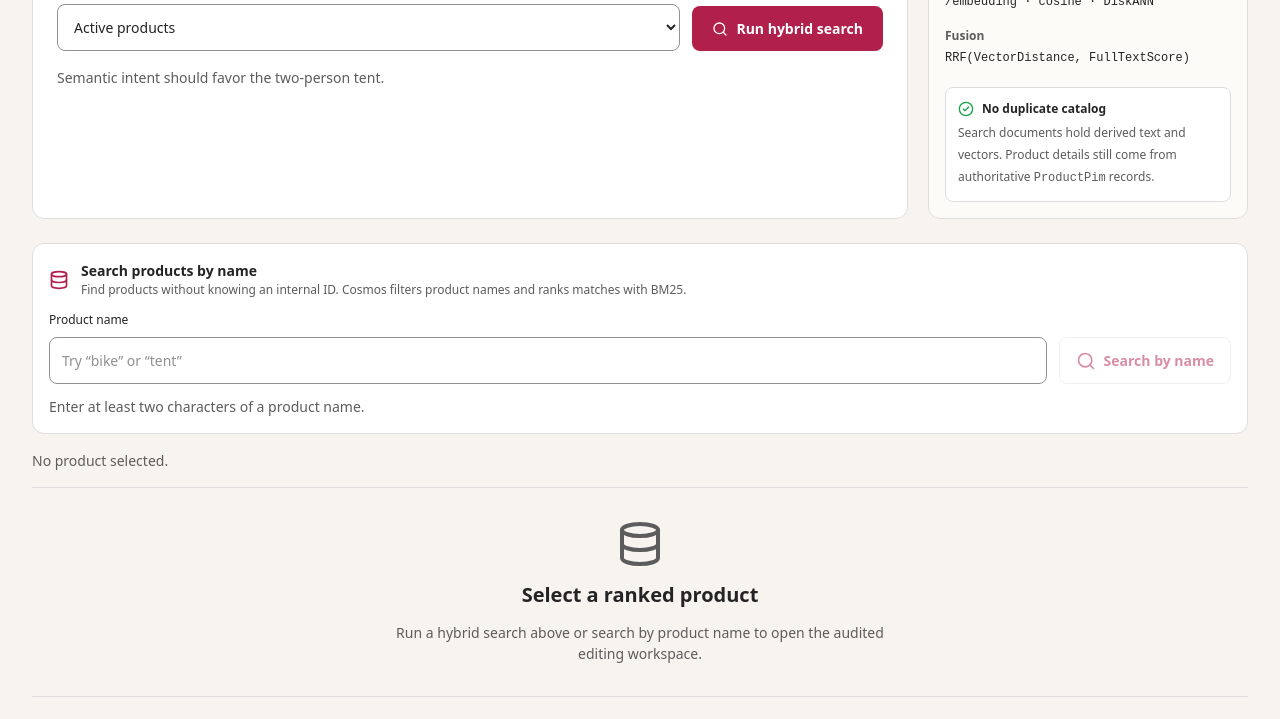
Test: App › saves changed fields with a reason and optimistic version then reloads
(page scrolled)
Type "Test product" into the field labelled "Product name". click: (548, 360)
box: [49,337,1047,384]
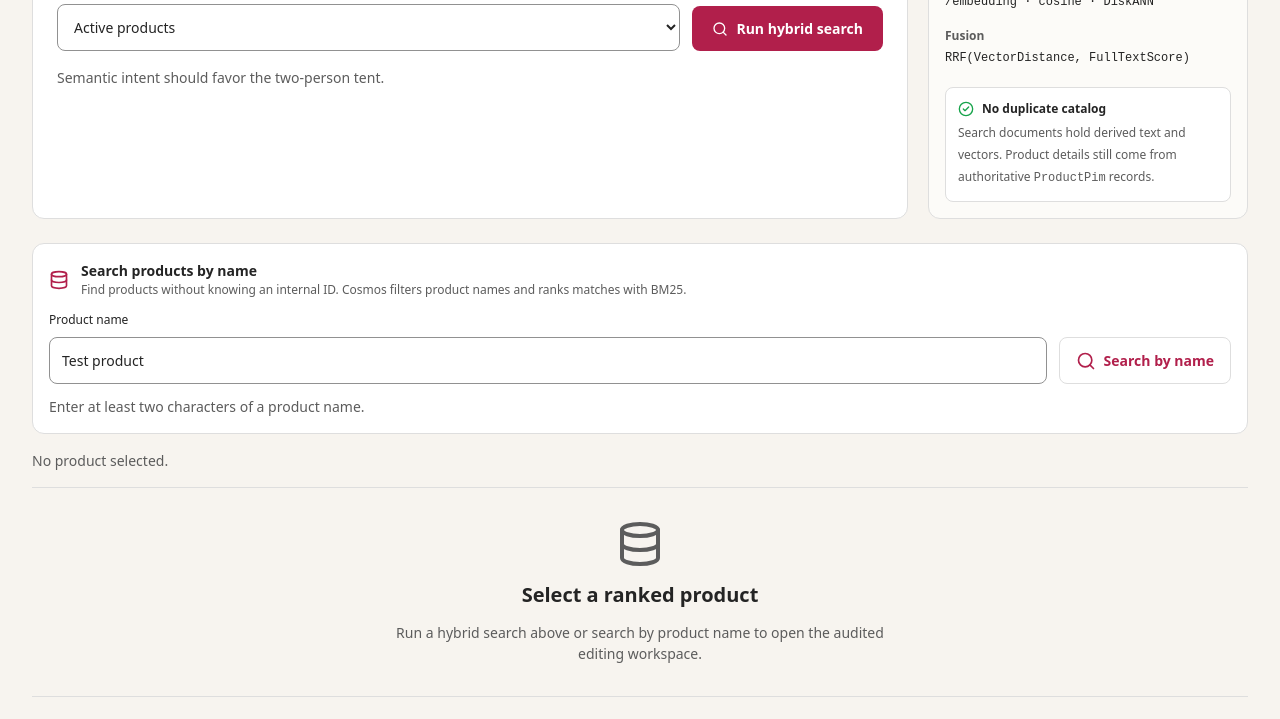
Submit the form "Product name", box [49,311,1231,384]
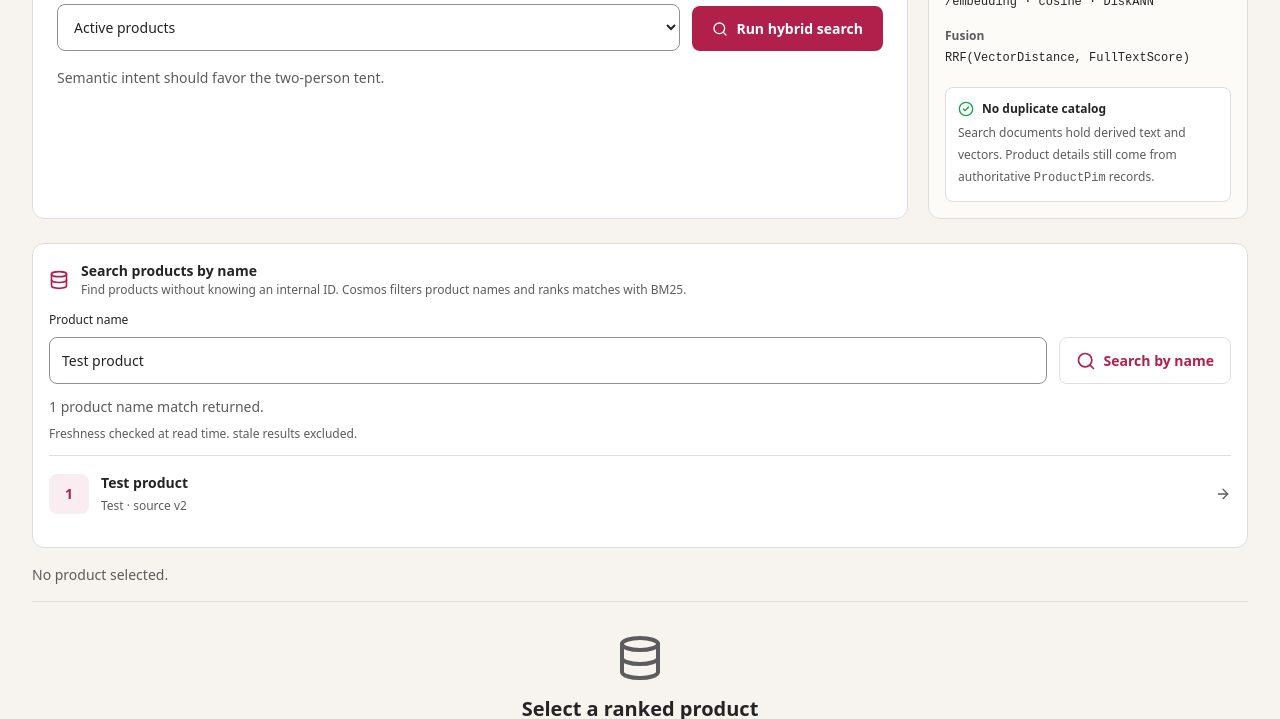
Click the button "1 Test product Test · source v2". click: (69, 494)
box: [49,456,1231,531]
(page scrolled)
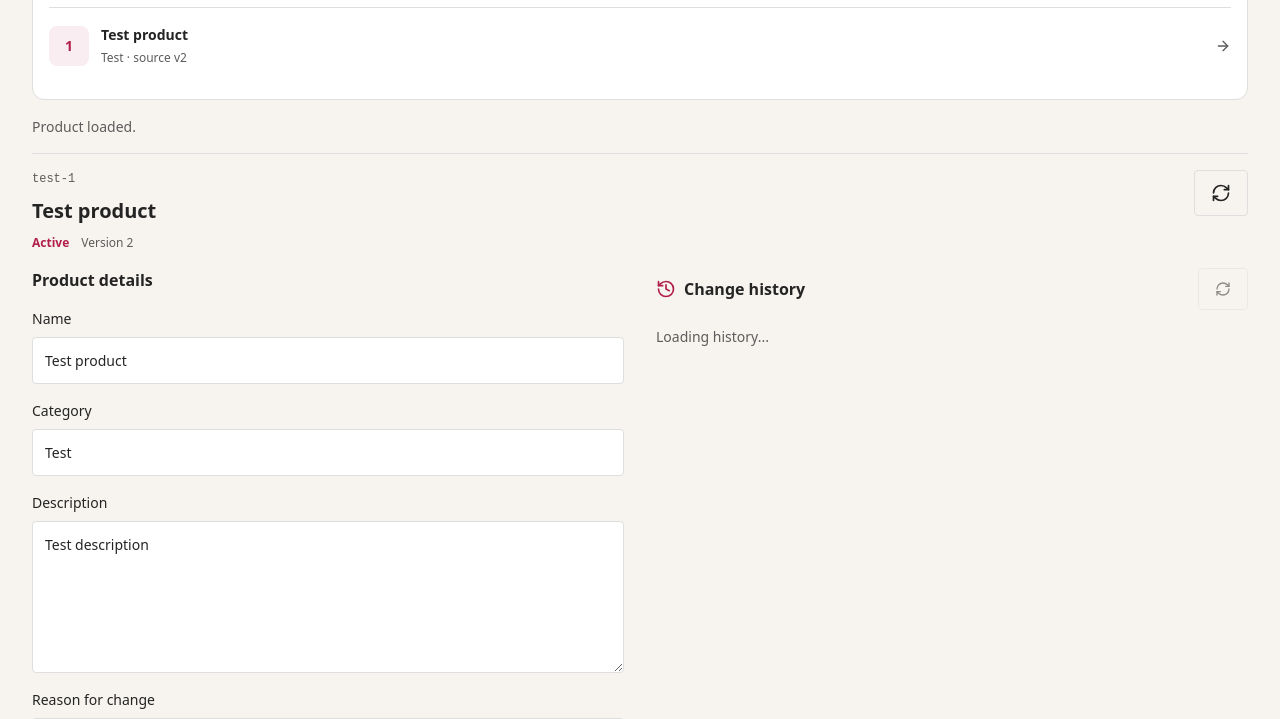
Expected: the heading "Test product" is shown, [32,196,156,226]
Replace the text in the field labelled "Name" with "New name". click: (328, 360)
box: [32,337,624,384]
(page scrolled)
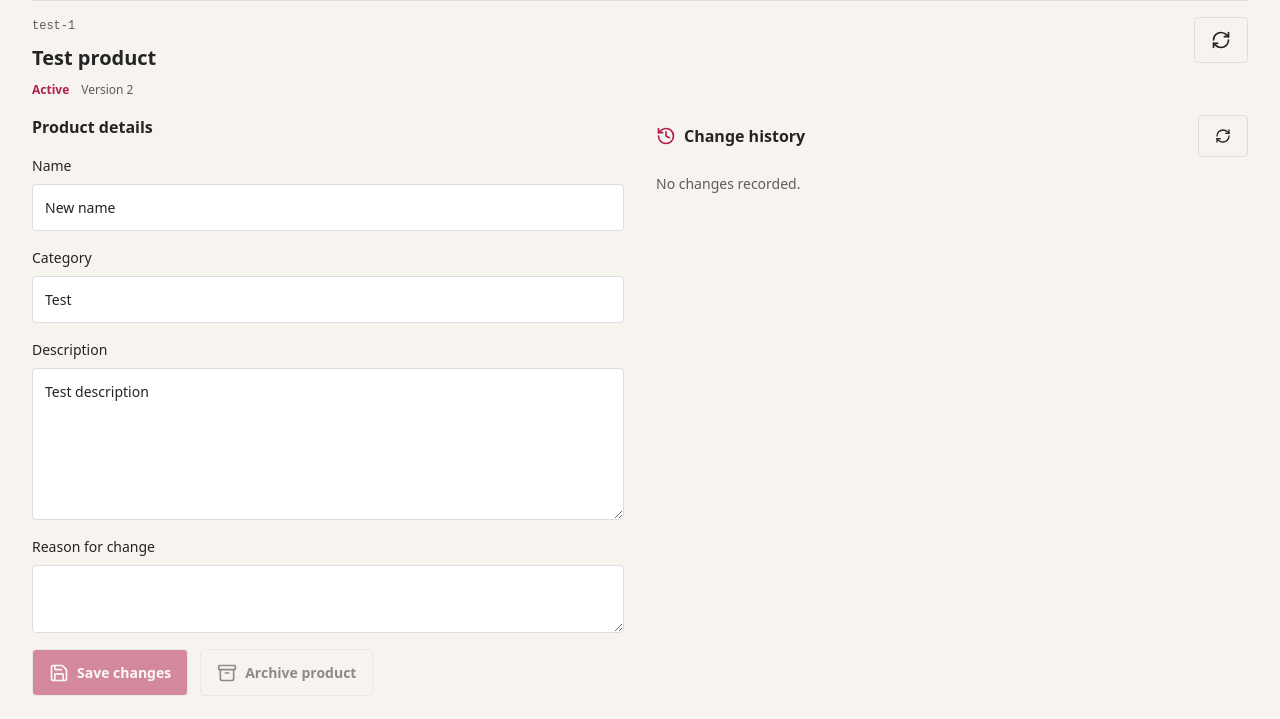
Expected: the button "Save changes" is disabled, [32,649,188,696]
Type "Correct product name" into the text box labelled "Reason for change". click: (328, 599)
box: [32,565,624,633]
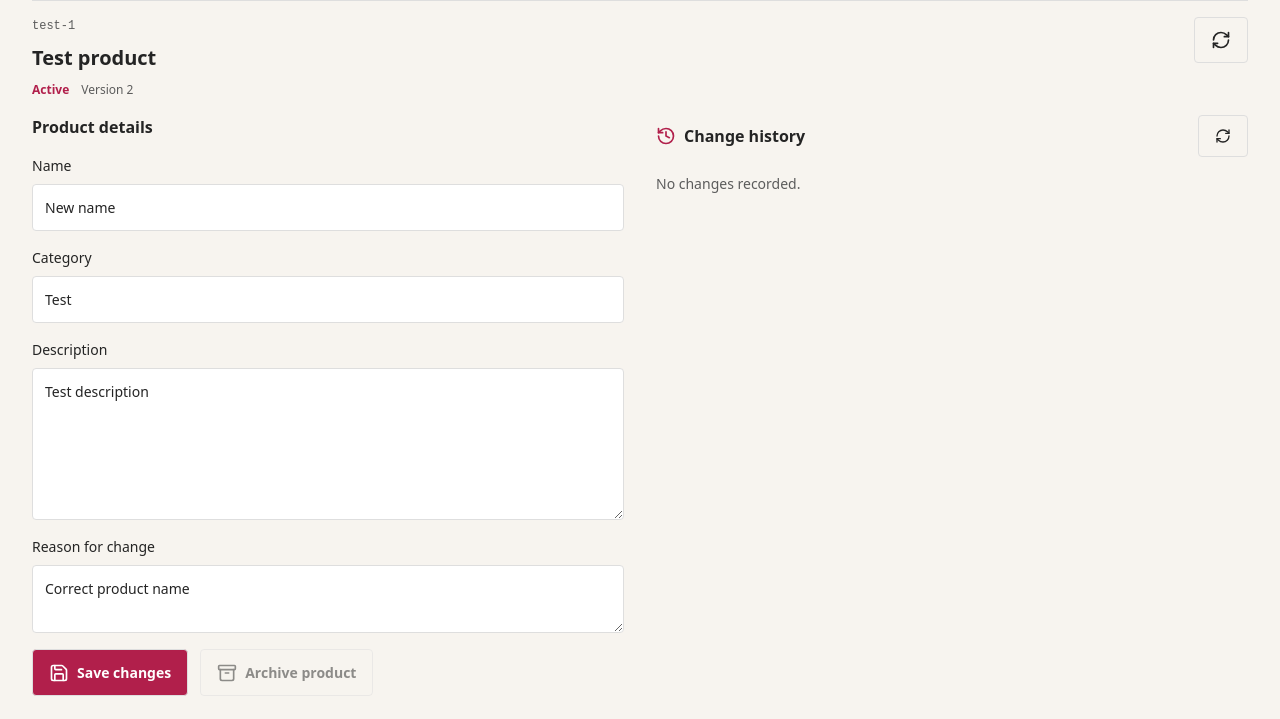
Click the button "Save changes". click: (110, 672)
box: [32,649,188,696]
(page scrolled)
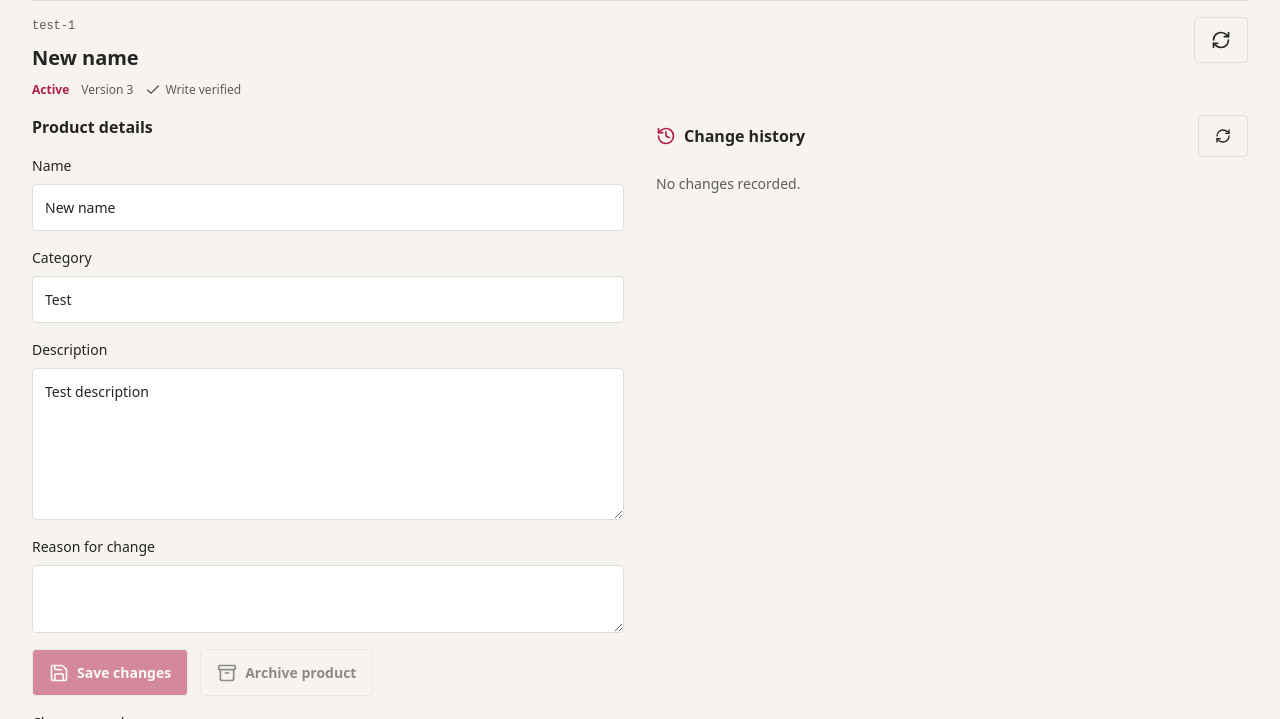
Expected: the text "Version 3" is shown, [81,81,134,99]
